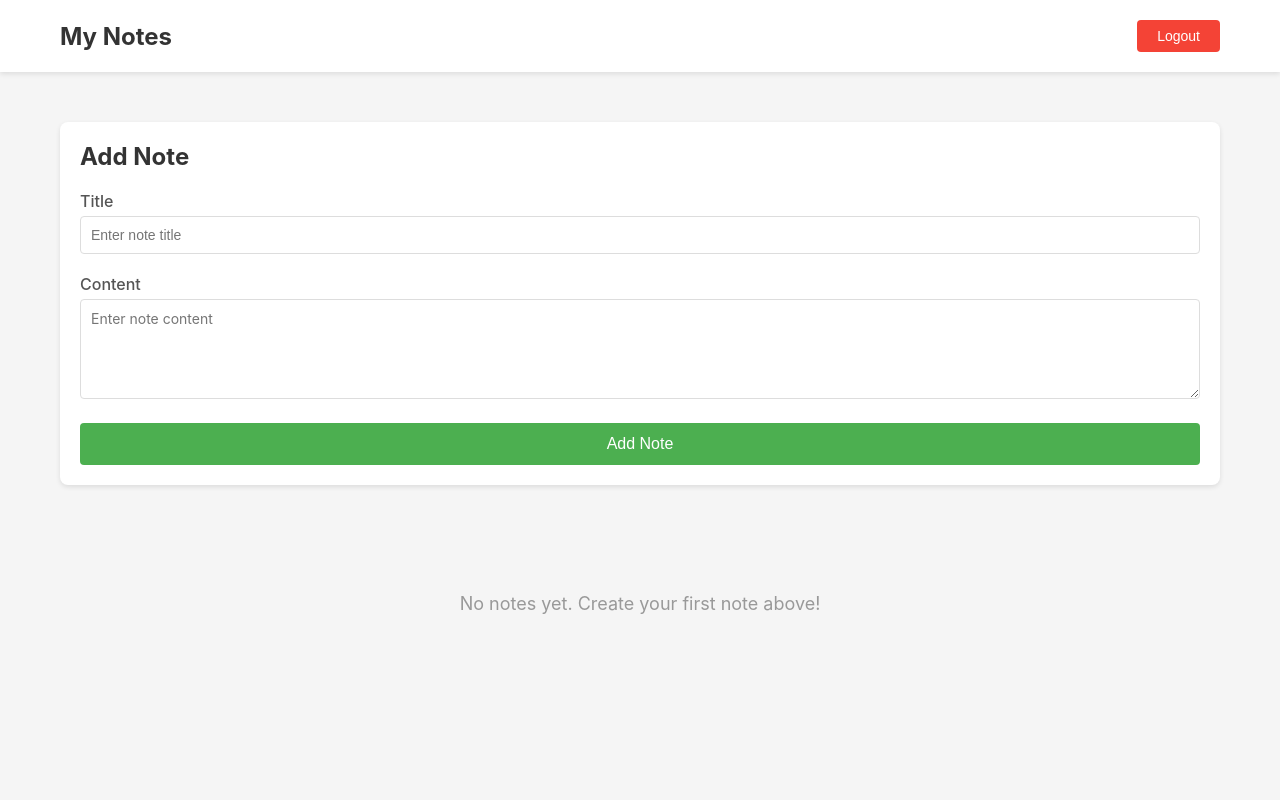
Scenario: NotesPage › creates a new note
The image size is (1280, 800).
expect the text "No notes yet. Create your first note above!" is shown: met, box [460, 593, 820, 614]
In the field labelled "Title": (640, 235) [80, 216, 1200, 254], type "New Note"
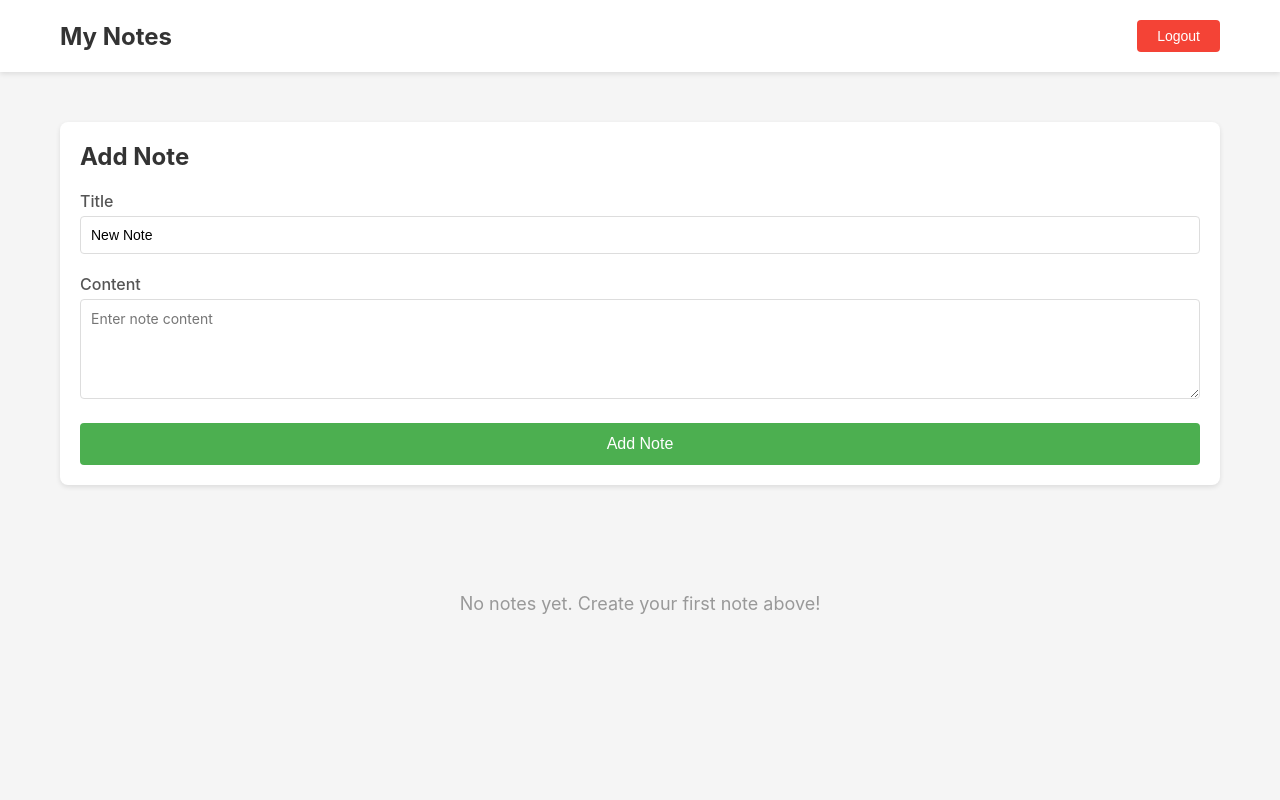
In the text box labelled "Content": (640, 349) [80, 299, 1200, 399], type "New Content"
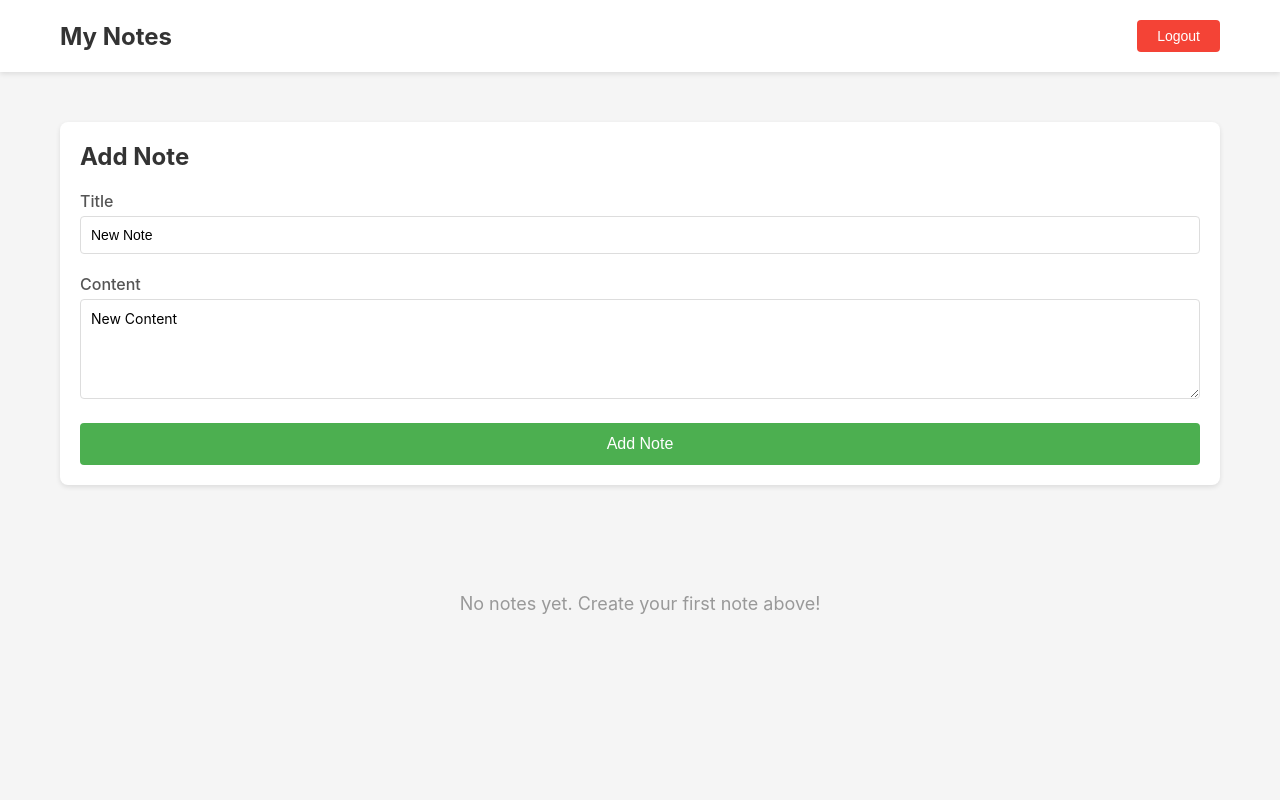
Click the button "Add Note": (640, 444) [80, 423, 1200, 465]
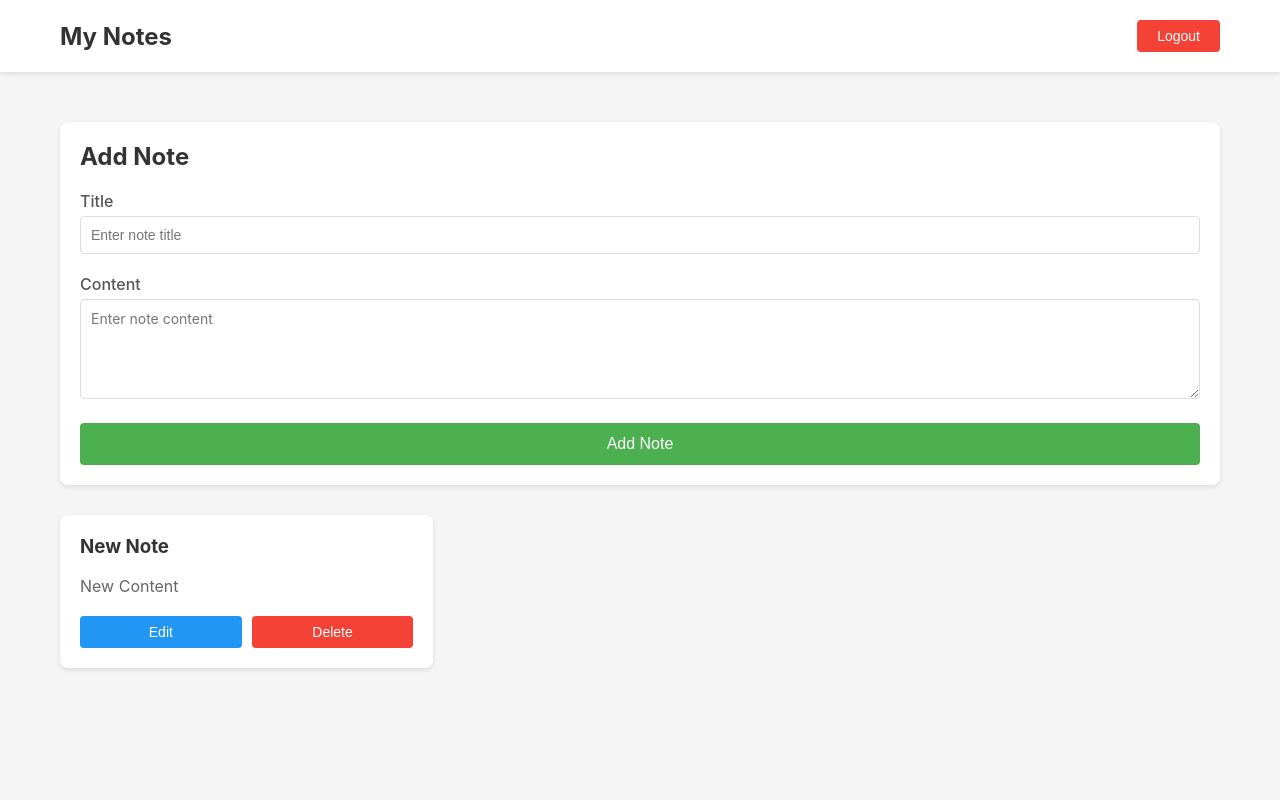
expect the heading "New Note" is shown: met, box [80, 535, 169, 558]
expect the text "New Content" is shown: met, box [80, 576, 178, 596]
